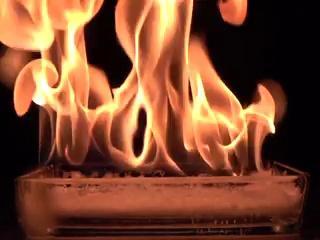Fire: (31, 1, 286, 181)
